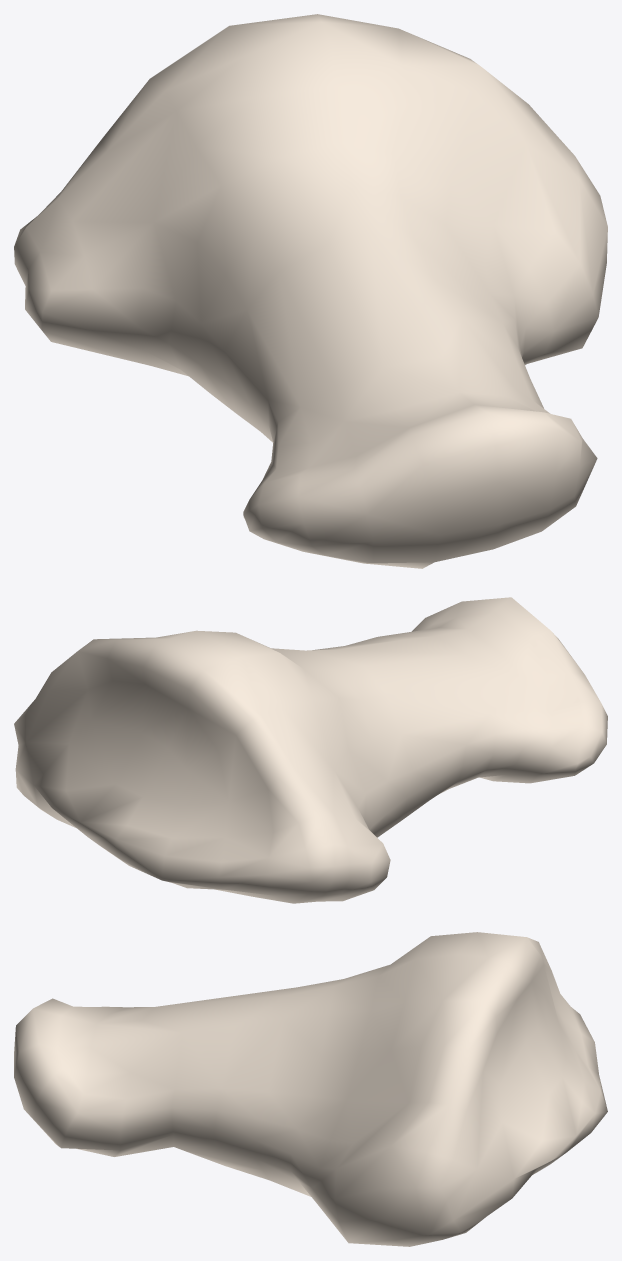
File: right_toe_1_distal.glb
3 views of the same model, one above another, from view 1: azimuth 30°, elevation 25°; view 2: azimuth 150°, elevation 25°; view 3: azimuth 270°, elevation 25° (orthographic). The views are drawn at different scales.
Visible parts, largest first — view 1: Distal phalanx of first finger of foot.r; view 2: Distal phalanx of first finger of foot.r; view 3: Distal phalanx of first finger of foot.r.
Boxes of the visible parts, bbox=[...] form: Distal phalanx of first finger of foot.r: bbox=[14, 14, 607, 568]; Distal phalanx of first finger of foot.r: bbox=[14, 597, 607, 903]; Distal phalanx of first finger of foot.r: bbox=[14, 932, 607, 1246].
Bounding box in the file's own units: 0.0217 × 0.0119 × 0.0271.
